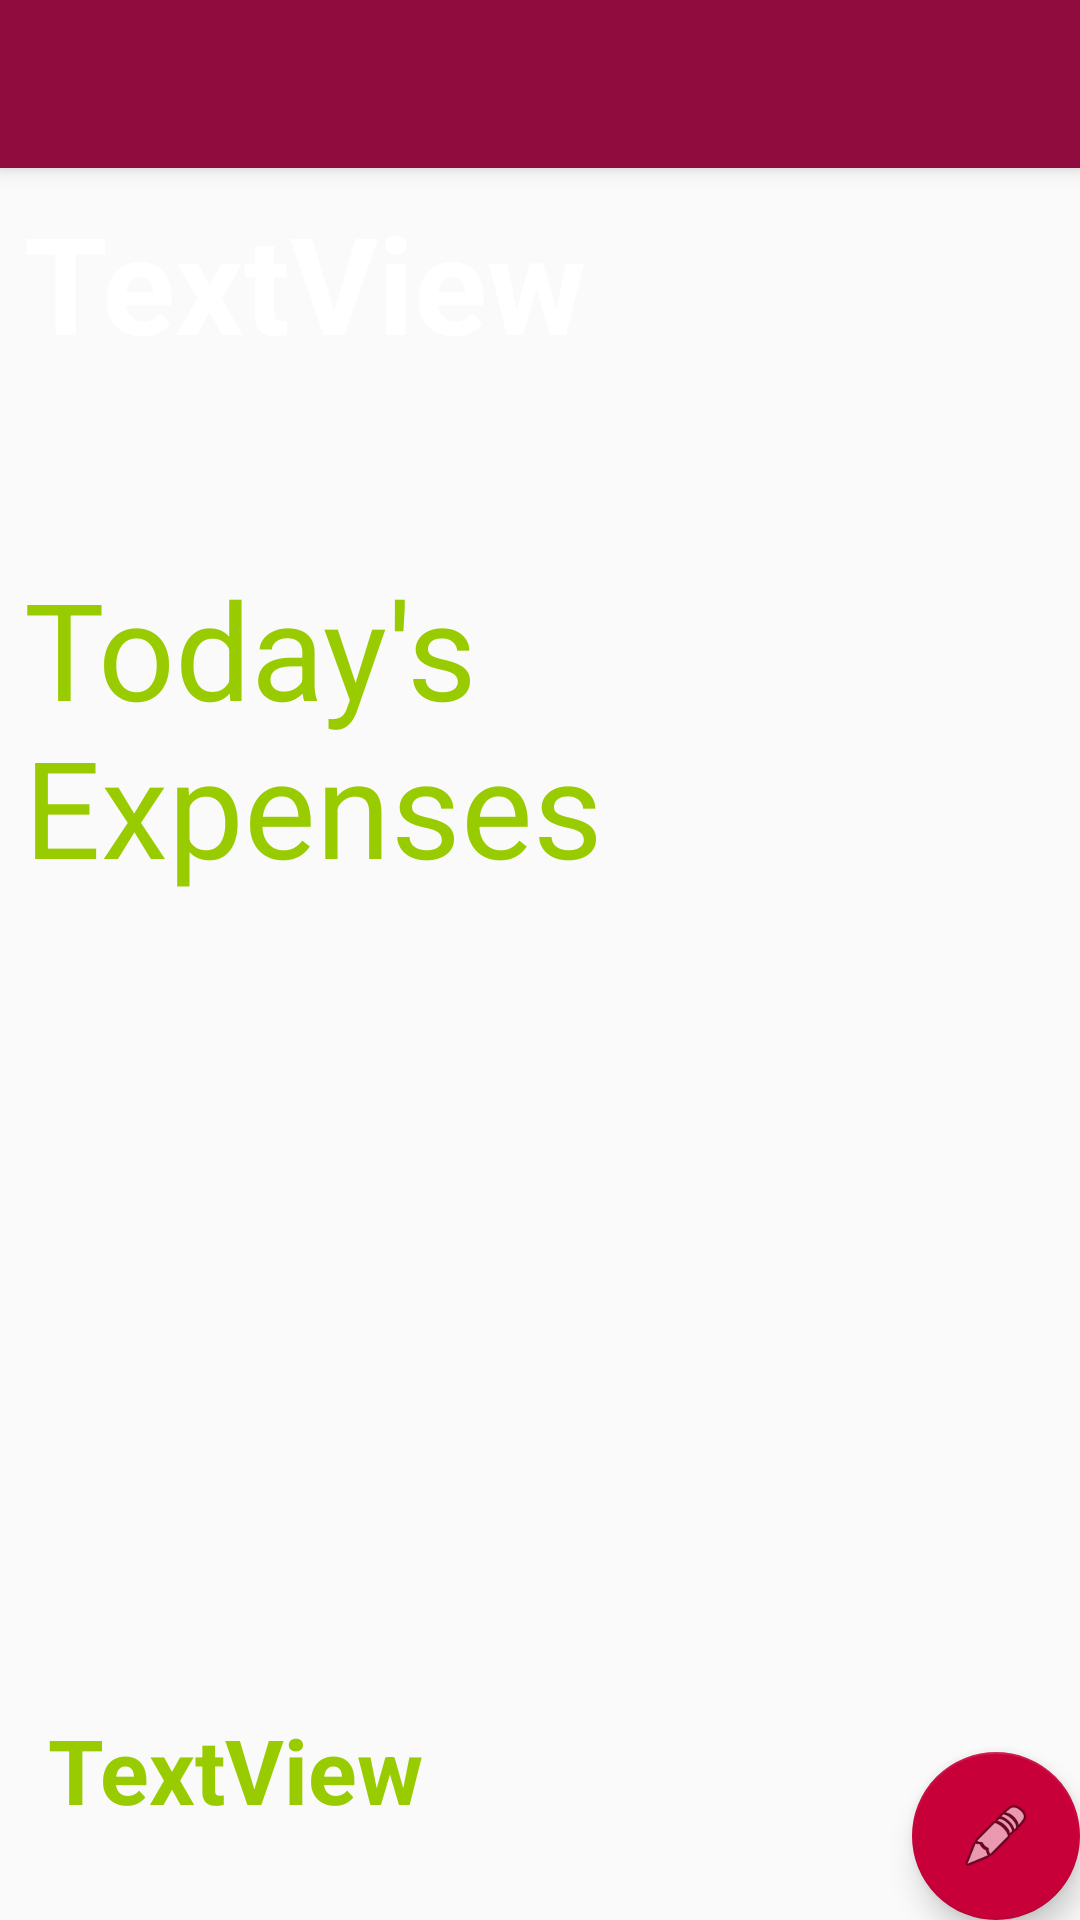

Icons on this 1080x1920 Android screen, each with the point to tap as (x=x, y=y):
edit: (x=996, y=1836)
